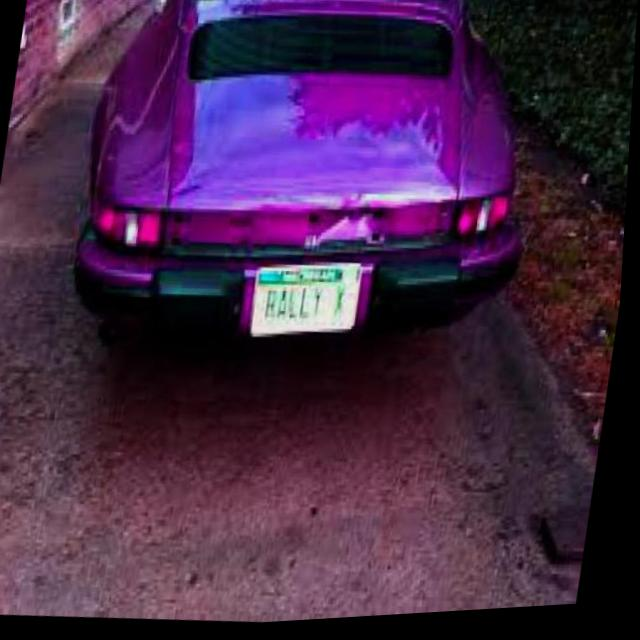Car-Damage: (311, 189, 407, 264)
